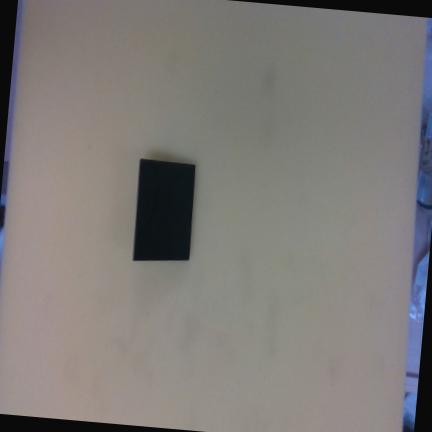tile: (133, 158, 196, 263)
